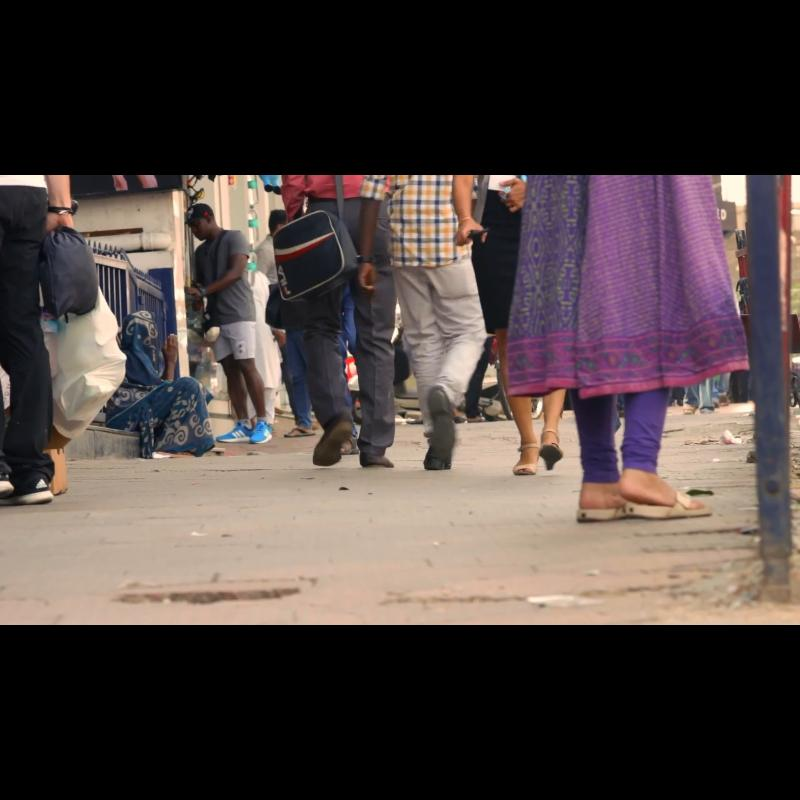Churidaar: (504, 175, 753, 494)
Pant: (276, 195, 407, 461), (409, 257, 480, 477)
Shirt: (367, 175, 473, 249)
Shorts: (192, 324, 264, 364)
Tshirt: (199, 227, 262, 324)
